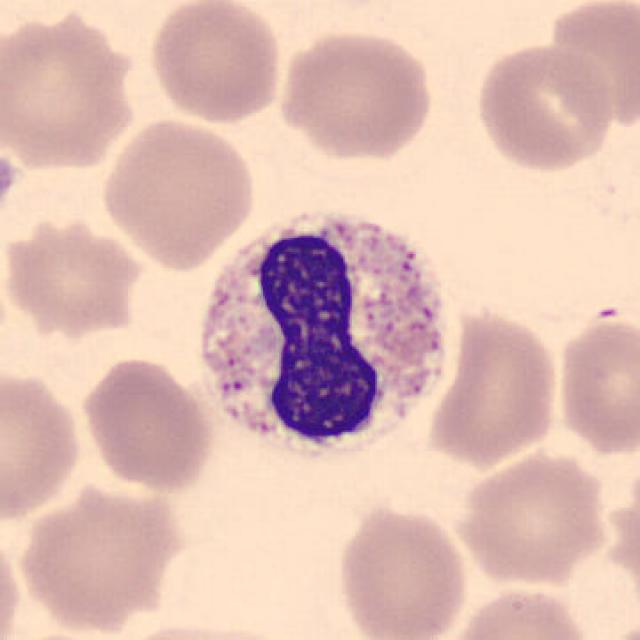Neutrophil: (185, 198, 466, 482)
Platelets: (0, 148, 18, 219)
RBC: (9, 476, 188, 633), (96, 115, 260, 272), (0, 2, 146, 176), (425, 303, 565, 469), (452, 446, 614, 587), (274, 25, 437, 162), (76, 352, 217, 496), (471, 39, 617, 174), (332, 500, 472, 640), (0, 210, 148, 337), (144, 0, 286, 127), (0, 362, 87, 526), (551, 312, 640, 460), (542, 0, 640, 134), (441, 583, 594, 640), (101, 615, 306, 640), (0, 522, 27, 638)
